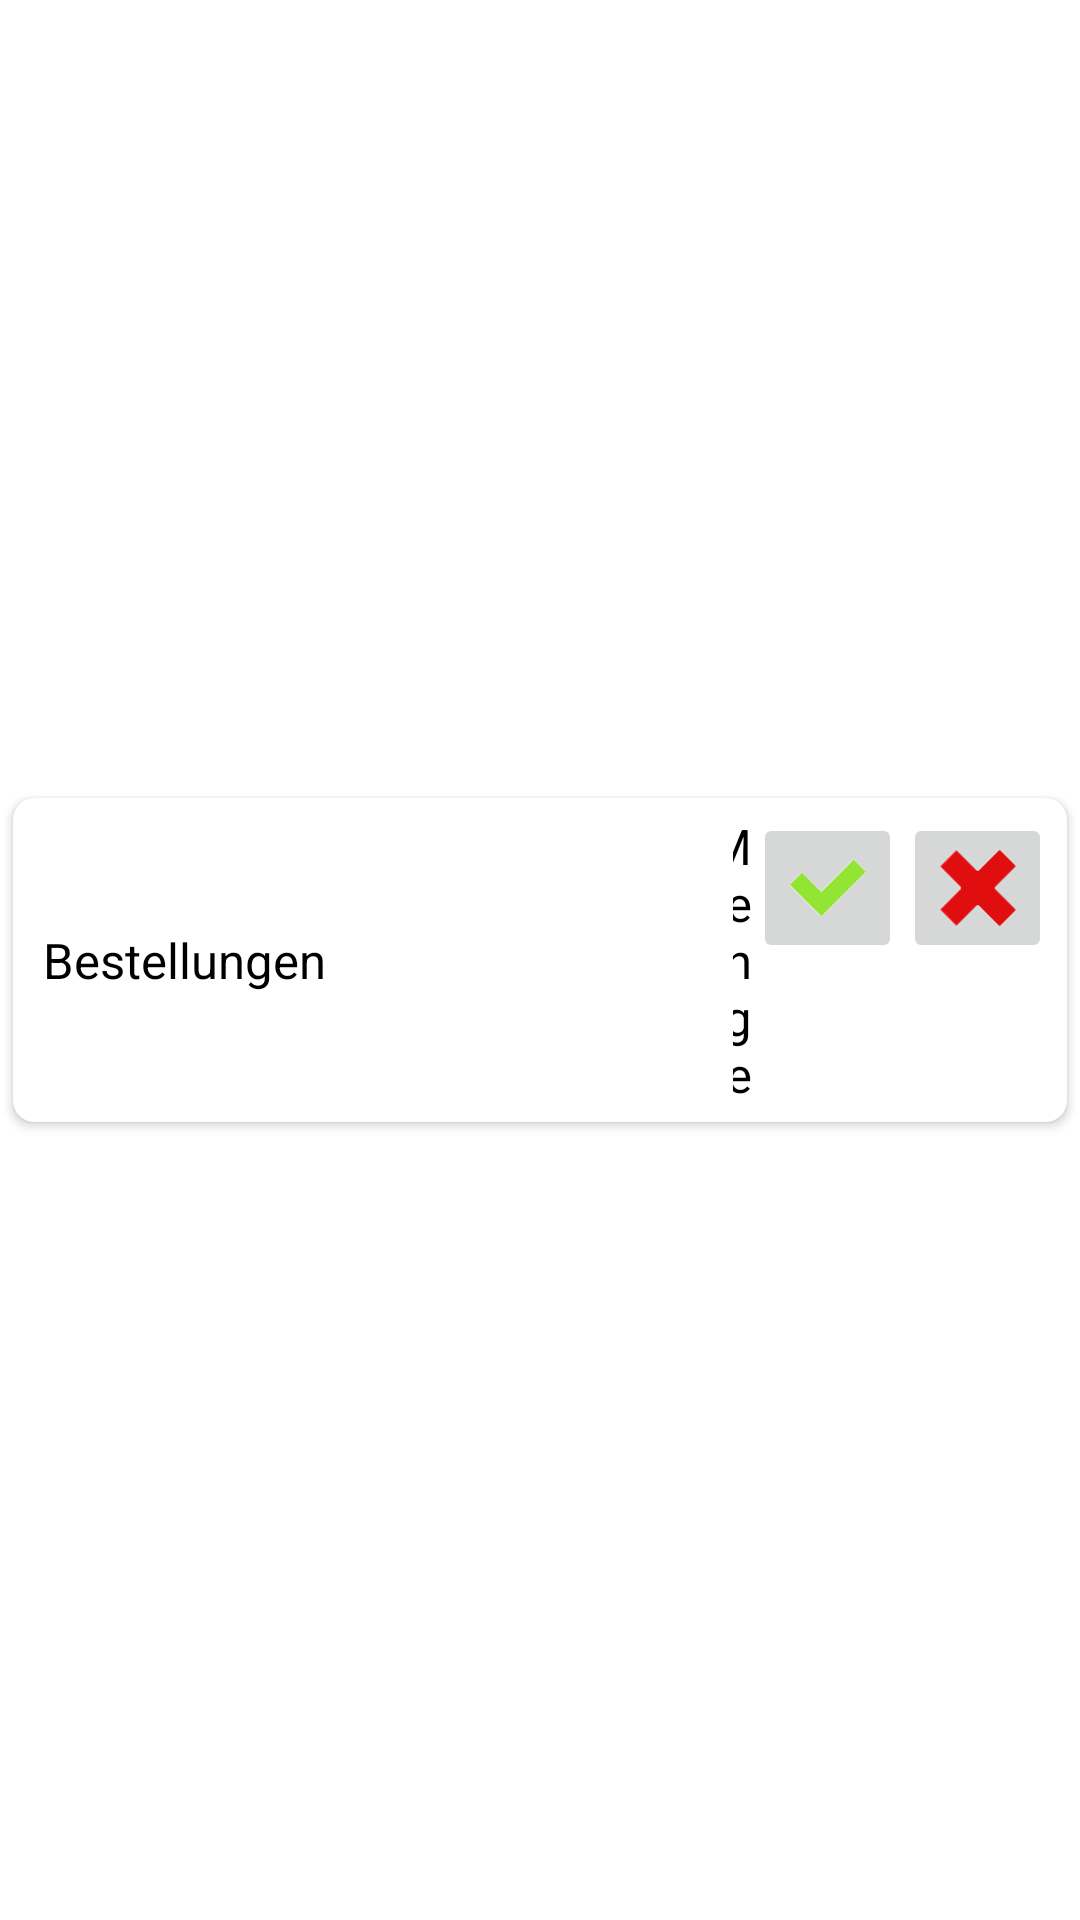

Screen size 1080w x 1920h. Icon name, then its box in pixels as (x1, y1, x2, y2):
Lieferung Bestätigen: (765, 831, 890, 945)
Lieferung stornieren: (915, 831, 1040, 945)
